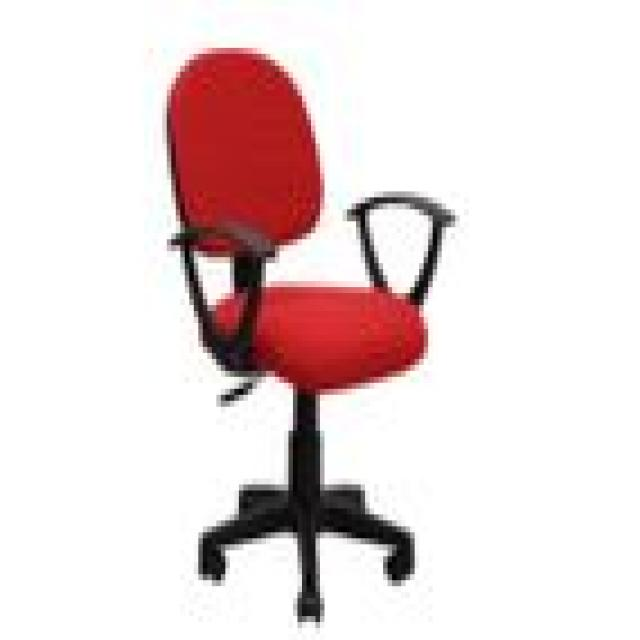others: (144, 36, 460, 634)
